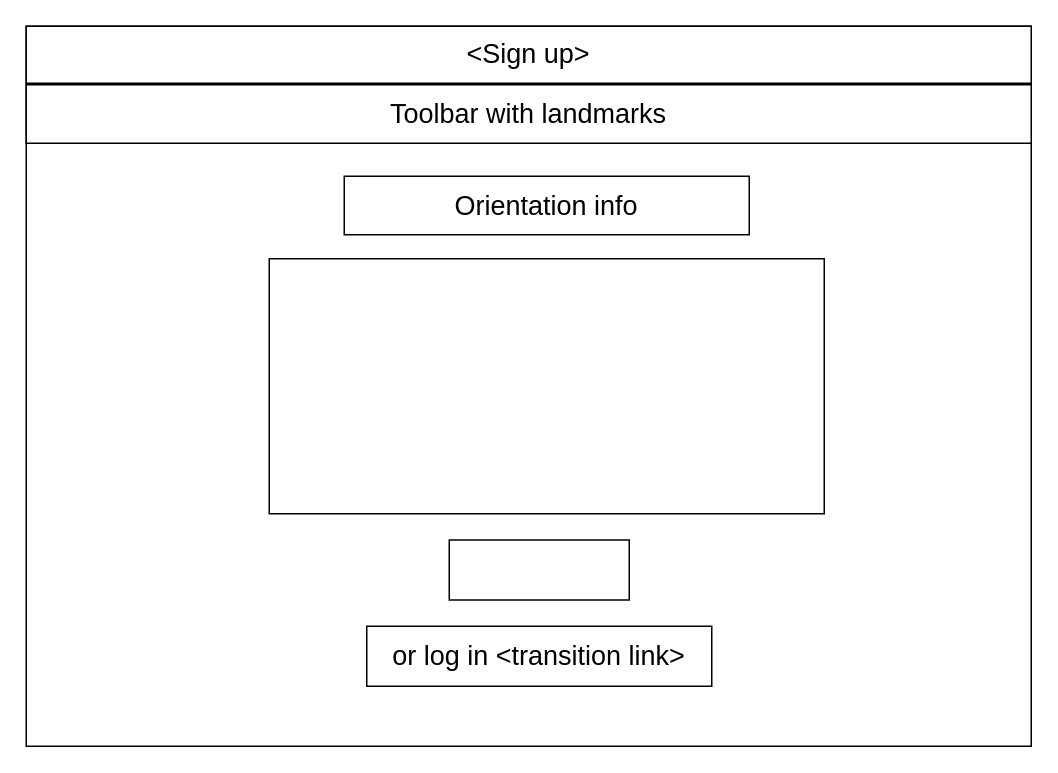
Image size: 1058x773. Some labels were removed from this diagram. The shapes that lost their labels are listed below. From the top down, each one's centre as x and y in pixels, then its label:
the point at 546,385: registration form
the point at 538,569: ok button
